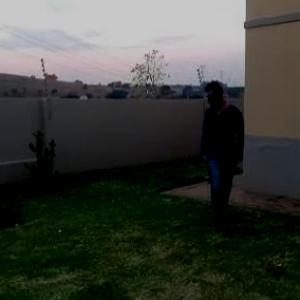follow: (199, 73, 256, 239)
